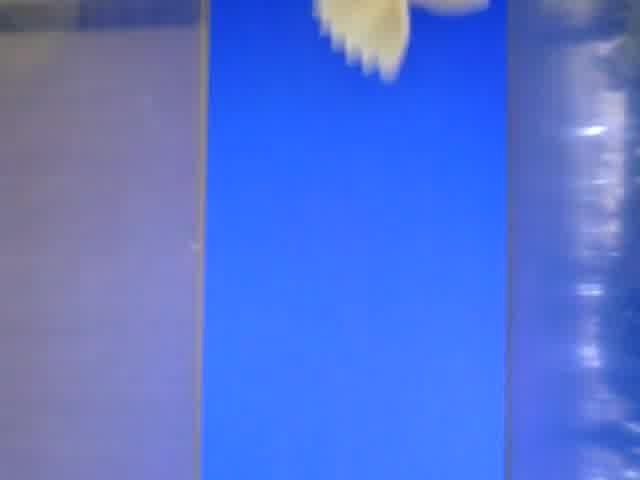farfalle: (311, 1, 490, 79)
